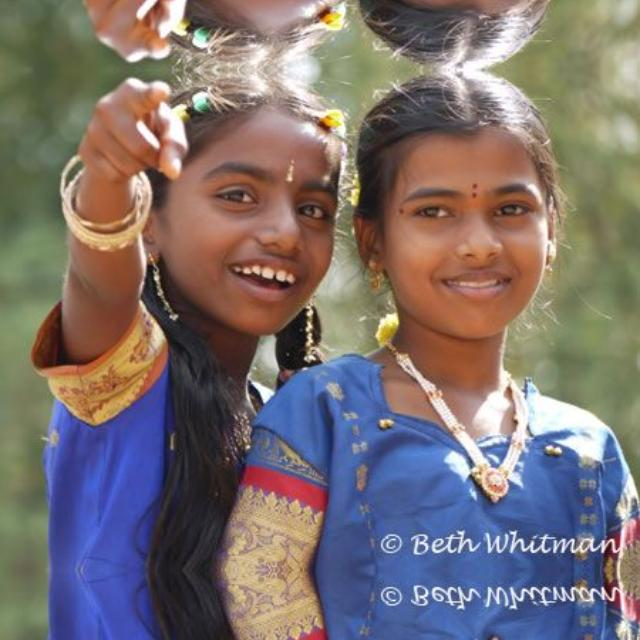person: (36, 68, 357, 570), (342, 75, 640, 570), (35, 569, 356, 640), (35, 0, 356, 69), (342, 569, 640, 640), (342, 0, 640, 63)
